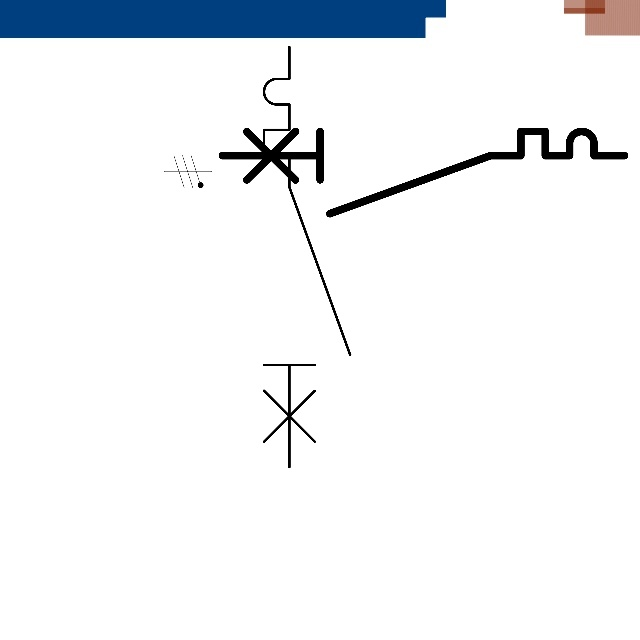interruptor_termomagnetico: (253, 36, 361, 478), (211, 121, 634, 224)
